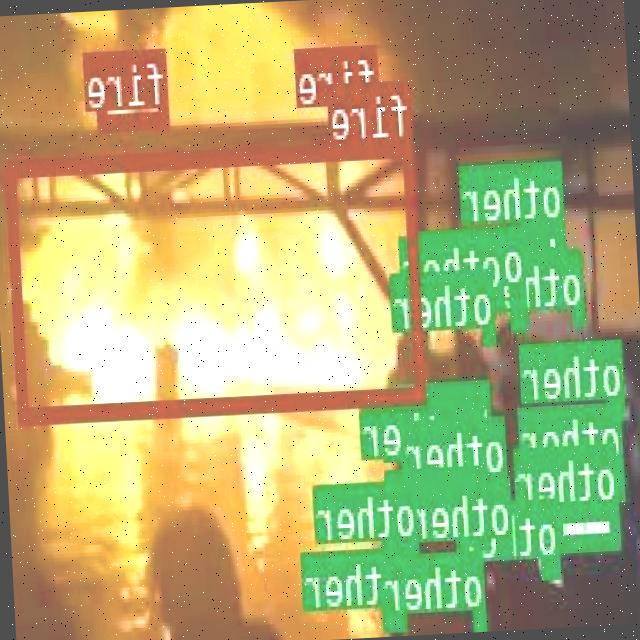fire: (8, 138, 427, 420), (96, 48, 172, 130), (328, 44, 380, 115)
